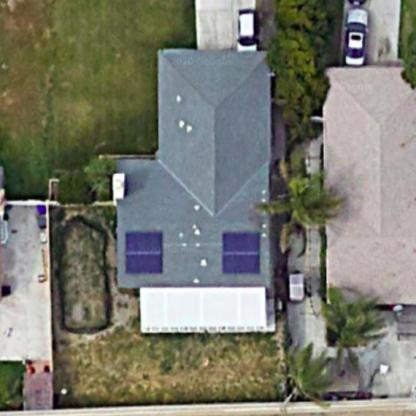car: (340, 3, 370, 71), (234, 2, 267, 55)
solar_panel: (215, 224, 269, 279), (120, 225, 165, 279)
